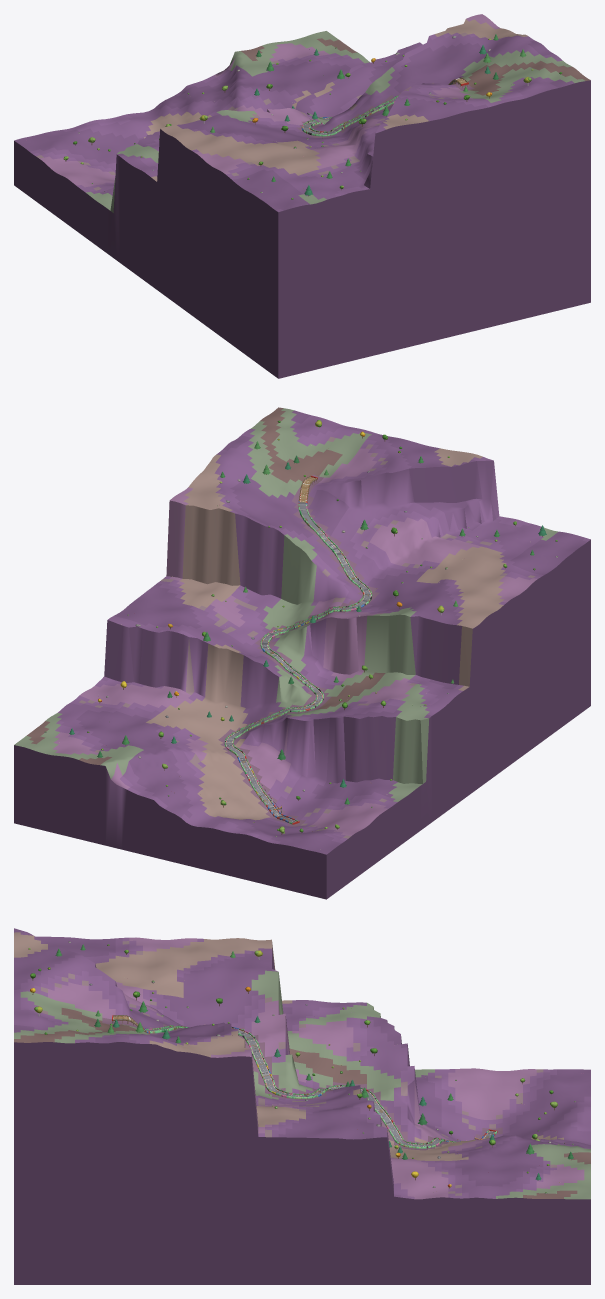
3 views of the same model, one above another, from view 1: azimuth 30°, elevation 25°; view 2: azimuth 150°, elevation 25°; view 3: azimuth 270°, elevation 25° (orthographic). The views are drawn at different scales.
Visible parts, largest first — view 1: grass, pines, hay; view 2: grass, road, hay, pines; view 3: grass, hay, road, pines, leafy trees.
Boxes of the visible parts, <box> form: grass: <box>14,14,590,378</box>; pines: <box>210,34,526,195</box>; hay: <box>301,77,468,136</box>; grass: <box>14,407,590,899</box>; road: <box>225,477,371,822</box>; hay: <box>224,475,372,824</box>; pines: <box>69,441,546,804</box>; grass: <box>14,928,590,1284</box>; hay: <box>112,1015,497,1148</box>; road: <box>113,1016,494,1146</box>; pines: <box>55,944,573,1180</box>; leafy trees: <box>30,949,557,1148</box>.
Bounding box in the file's own units: 290 × 204 × 425.
